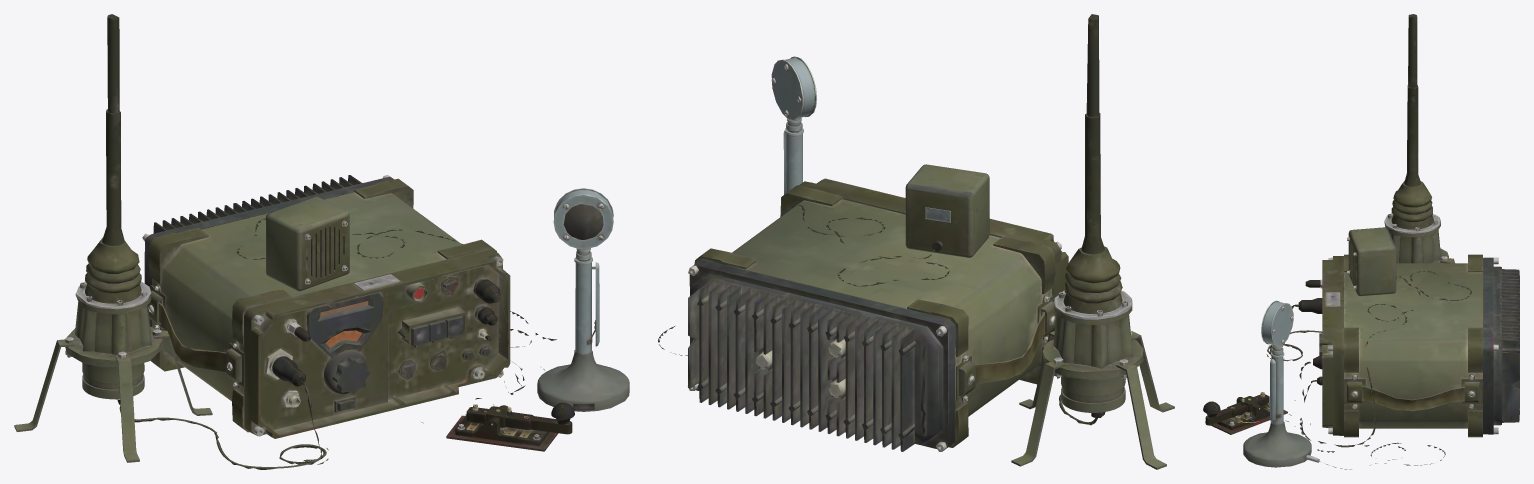
The model's file is vintage_radio_transceiver.glb.
3 views of the same model, side by side, from view 1: azimuth 30°, elevation 25°; view 2: azimuth 150°, elevation 25°; view 3: azimuth 270°, elevation 25° (orthographic). The views are drawn at different scales.
Parts seen in each view (by area): view 1: vintage_radio_transceiver, vintage_radio_transceiver_antenna, vintage_radio_transceiver_microphone, vintage_radio_transceiver_speaker, vintage_radio_transceiver_morse_key_base, vintage_radio_transceiver_morse_key_arm, vintage_radio_transceiver_dial, vintage_radio_transceiver_cables, vintage_radio_transceiver_antenna_plug_a; view 2: vintage_radio_transceiver, vintage_radio_transceiver_antenna, vintage_radio_transceiver_speaker, vintage_radio_transceiver_microphone, vintage_radio_transceiver_cables; view 3: vintage_radio_transceiver, vintage_radio_transceiver_antenna, vintage_radio_transceiver_microphone, vintage_radio_transceiver_speaker, vintage_radio_transceiver_cables, vintage_radio_transceiver_morse_key_arm, vintage_radio_transceiver_morse_key_base.
Part boxes in pixels (box(x1,y1,x2,y2)): vintage_radio_transceiver: box(142, 175, 510, 438); vintage_radio_transceiver_antenna: box(14, 14, 212, 462); vintage_radio_transceiver_microphone: box(537, 188, 629, 411); vintage_radio_transceiver_speaker: box(266, 196, 349, 291); vintage_radio_transceiver_morse_key_base: box(446, 405, 558, 451); vintage_radio_transceiver_morse_key_arm: box(466, 402, 574, 434); vintage_radio_transceiver_dial: box(324, 330, 369, 394); vintage_radio_transceiver_cables: box(119, 218, 556, 469); vintage_radio_transceiver_antenna_plug_a: box(272, 356, 305, 386); vintage_radio_transceiver: box(687, 178, 1068, 451); vintage_radio_transceiver_antenna: box(1011, 14, 1174, 469); vintage_radio_transceiver_speaker: box(905, 164, 989, 257); vintage_radio_transceiver_microphone: box(771, 56, 816, 194); vintage_radio_transceiver_cables: box(658, 205, 1097, 425); vintage_radio_transceiver: box(1322, 254, 1519, 437); vintage_radio_transceiver_antenna: box(1384, 14, 1454, 263); vintage_radio_transceiver_microphone: box(1243, 300, 1319, 467); vintage_radio_transceiver_speaker: box(1347, 227, 1396, 296); vintage_radio_transceiver_cables: box(1266, 271, 1471, 469); vintage_radio_transceiver_morse_key_arm: box(1203, 392, 1269, 425); vintage_radio_transceiver_morse_key_base: box(1205, 397, 1287, 434).
Size of the model in its own units: 0.574 by 0.4344 by 0.4131.
Materials: 2 (2 with a texture image).
